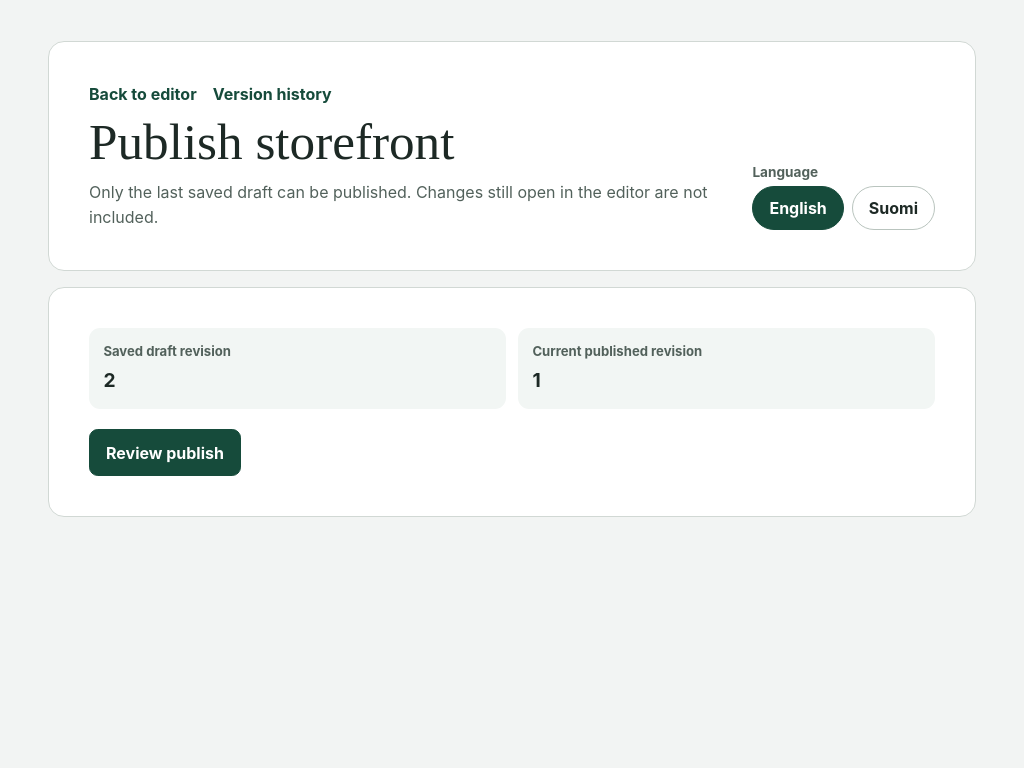
Scenario: P2-12 publish confirmation route › blocks confirmation when the saved draft has no changes
Click the button "Review publish". click: [165, 453]
box: left=89, top=429, right=241, bottom=476
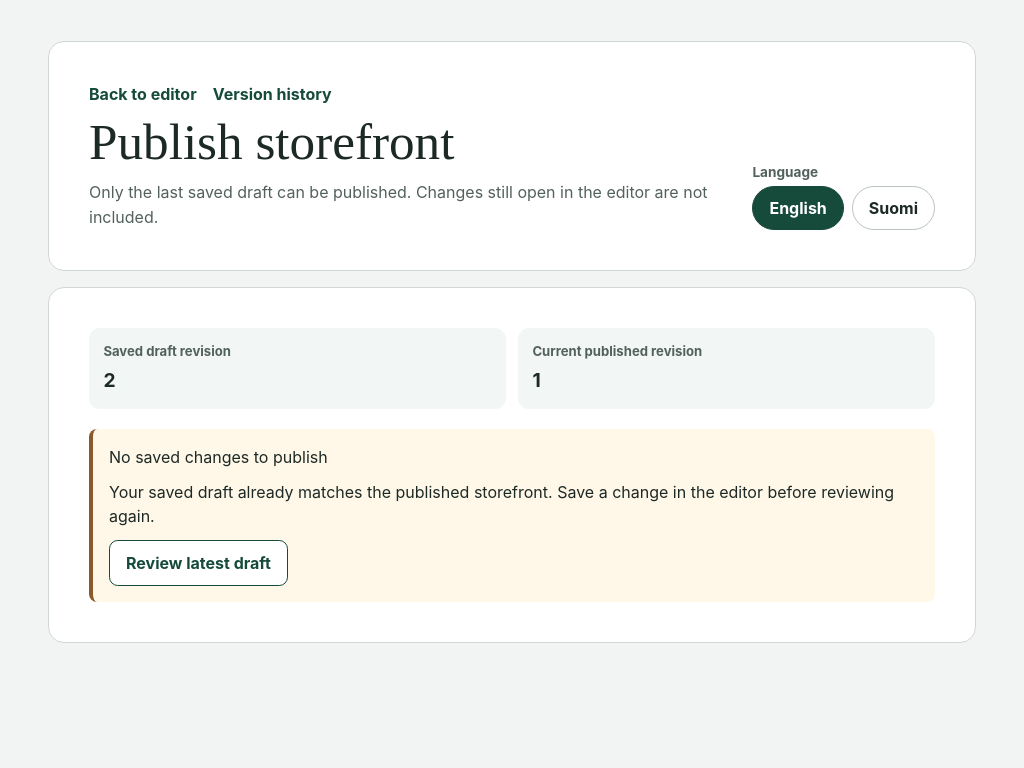
expect the heading "No saved changes to publish" is shown: met, box left=109, top=447, right=328, bottom=467
